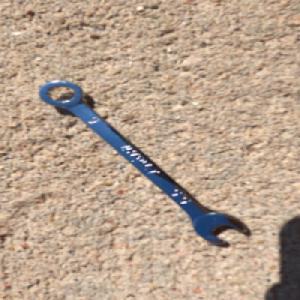Wrench: (36, 78, 253, 247)
